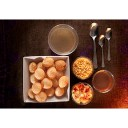poori: (58, 75, 69, 89), (34, 91, 47, 102), (34, 68, 45, 80), (31, 82, 42, 93), (46, 67, 57, 78), (42, 57, 54, 67), (55, 85, 65, 96), (41, 79, 52, 88), (56, 60, 65, 71), (29, 61, 37, 73)
